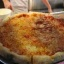pizza: (1, 11, 64, 64)
